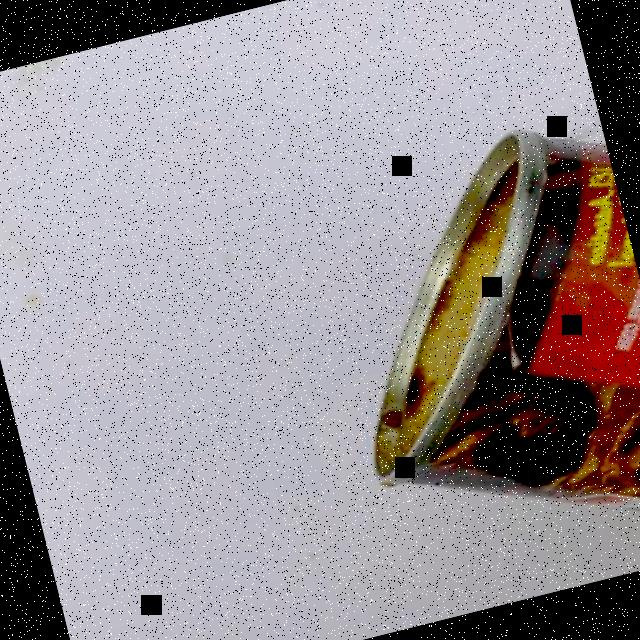can: (293, 102, 640, 601)
